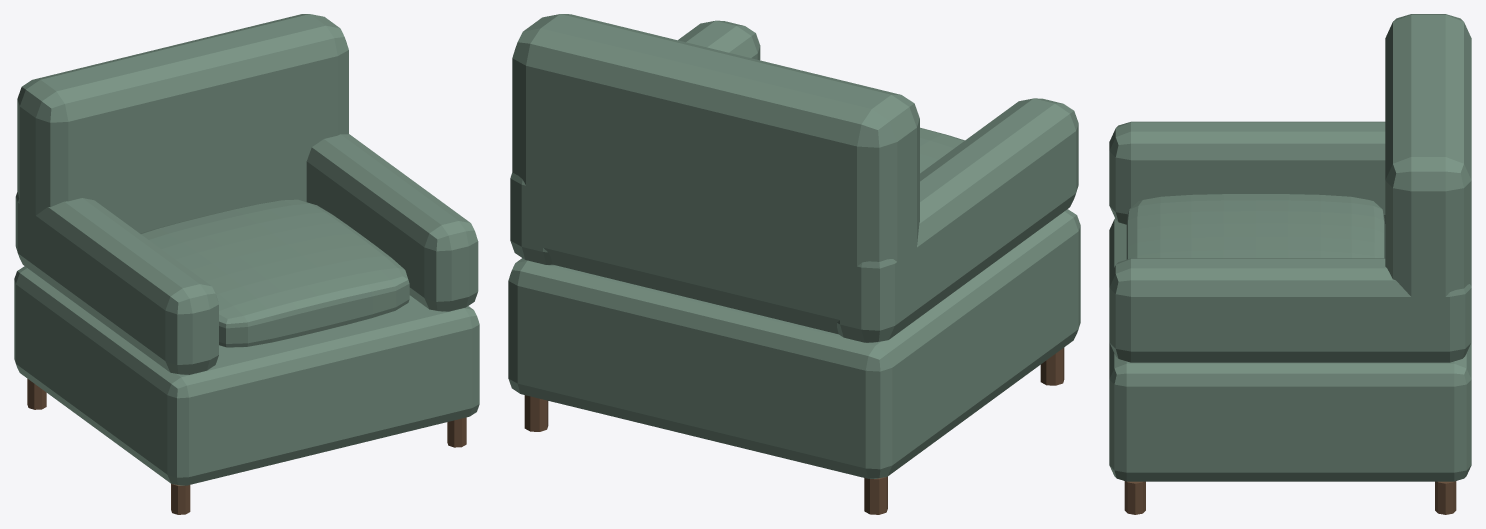
File: armchair.fbx
3 views of the same model, side by side, from view 1: azimuth 30°, elevation 25°; view 2: azimuth 150°, elevation 25°; view 3: azimuth 270°, elevation 25° (orthographic). The views are drawn at different scales.
Visible parts, largest first — view 1: Armchair; view 2: Armchair; view 3: Armchair.
Part boxes in pixels (box(x1,y1,x2,y2)): Armchair: box(14, 14, 479, 514); Armchair: box(508, 14, 1080, 514); Armchair: box(1109, 14, 1471, 514).
Bounding box in the file's own units: 0.9 × 0.9 × 0.84.
